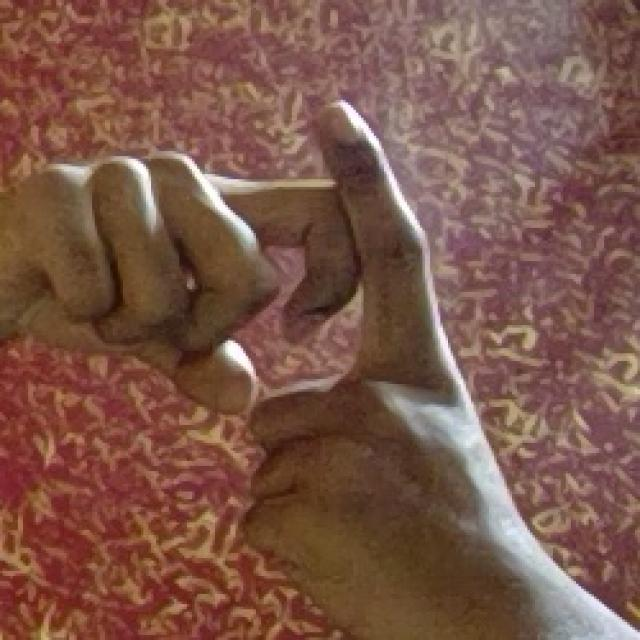Alphabet-K: (0, 94, 542, 640)
